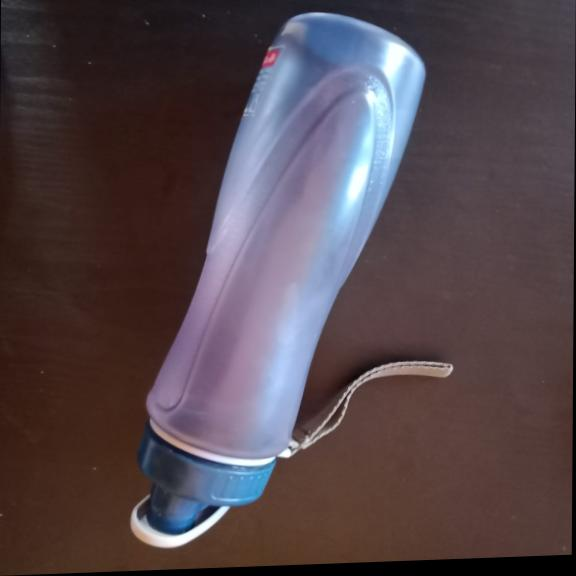Plastik: (128, 9, 425, 548)
